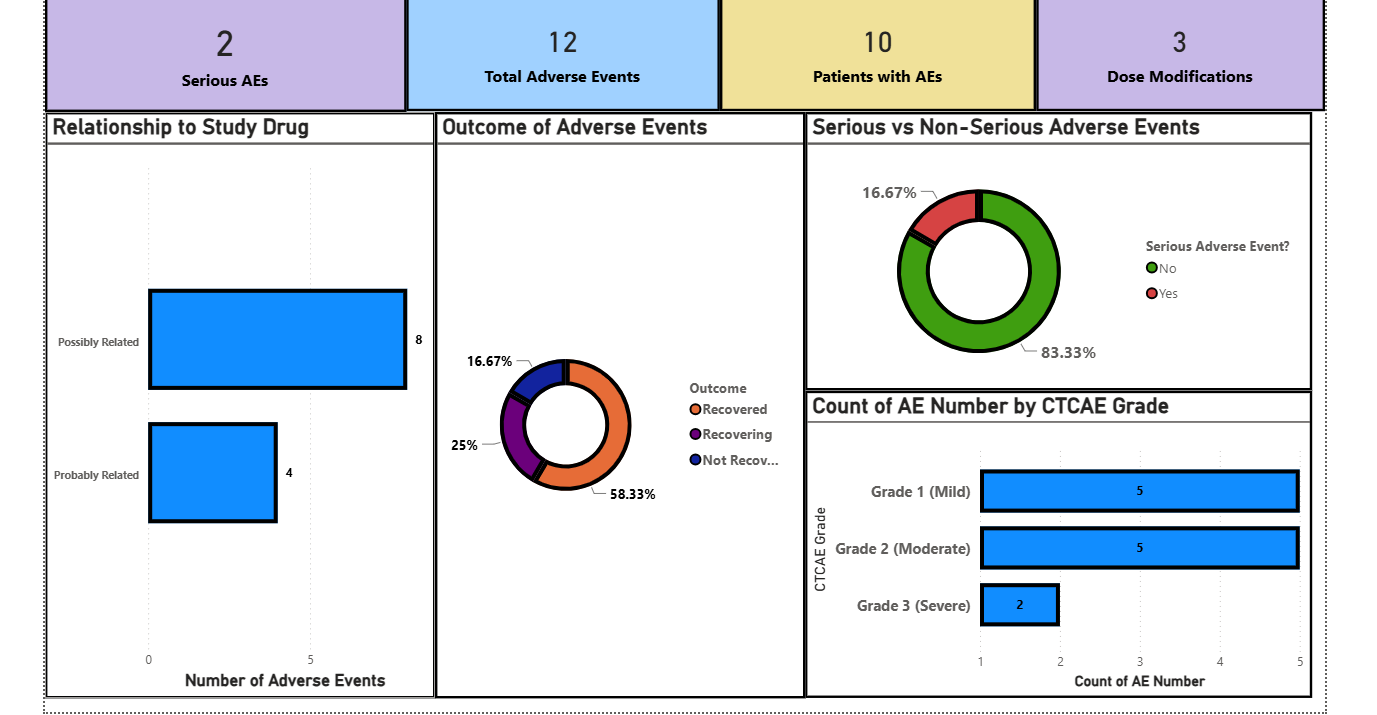

What the dashboard file says about the page in this screenshot:
{"tool":"powerbi","page":{"name":"Safety","canvas":[1280,720],"ordinal":1},"visuals":[{"type":"card","fields":{"Values":["ClinicalData.Serious AEs"]},"box":[0,0,361.2,120],"z":0},{"type":"card","fields":{"Values":["ClinicalData.Total Adverse Events"]},"box":[361.5,0,313.4,119.5],"z":1000},{"type":"card","fields":{"Values":["ClinicalData.Patients with AEs"]},"box":[674.8,0,316.3,119.5],"z":2000},{"type":"card","fields":{"Values":["ClinicalData.Dose Modifications"]},"box":[991.1,0,288.6,119.5],"z":3000},{"type":"clusteredBarChart","fields":{"Y":["CountNonNull(ClinicalData.AE Number)"],"Category":["ClinicalData.CTCAE Grade"]},"box":[760,398.8,507.5,307.5],"z":4000},{"type":"donutChart","title":"Serious vs Non-Serious Adverse Events","fields":{"Category":["ClinicalData.Serious Adverse Event?"],"Y":["CountNonNull(ClinicalData.AE Number)"]},"box":[760,120,507.5,278.8],"z":5000},{"type":"clusteredBarChart","title":"Relationship to Study Drug","fields":{"Category":["ClinicalData.Relationship to Study Drug"],"Y":["CountNonNull(ClinicalData.AE Number)"]},"box":[0,120,390,586.2],"z":6000},{"type":"donutChart","title":"Outcome of Adverse Events","fields":{"Category":["ClinicalData.Outcome"],"Y":["CountNonNull(ClinicalData.AE Number)"]},"box":[390,120,370,586.2],"z":7000}]}

Visuals, with their boxes in screenshot pixels (x1, y1, x2, y2):
card - ClinicalData.Serious AEs: (36, 0, 402, 107)
card - ClinicalData.Total Adverse Events: (402, 0, 720, 107)
card - ClinicalData.Patients with AEs: (720, 0, 1040, 107)
card - ClinicalData.Dose Modifications: (1040, 0, 1333, 107)
clusteredBarChart - CountNonNull(ClinicalData.AE Number) x ClinicalData.CTCAE Grade: (806, 390, 1320, 701)
"Serious vs Non-Serious Adverse Events" donutChart: (806, 107, 1320, 390)
"Relationship to Study Drug" clusteredBarChart: (36, 107, 431, 701)
"Outcome of Adverse Events" donutChart: (431, 107, 806, 701)
